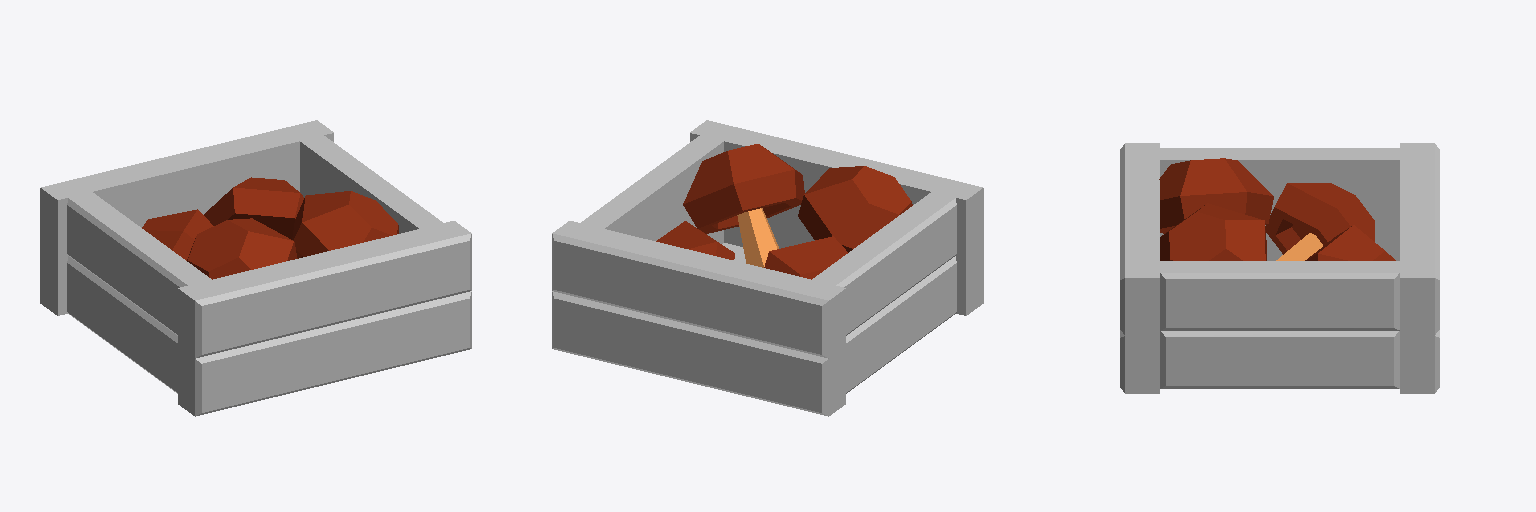
The model's file is crate_mushroom.obj.
3 views of the same model, side by side, from view 1: azimuth 30°, elevation 25°; view 2: azimuth 150°, elevation 25°; view 3: azimuth 270°, elevation 25° (orthographic).
Visible parts, largest first — view 1: crate, mushroom.001, mushroom, mushroom.003, mushroom.002; view 2: crate, mushroom.001, mushroom, mushroom.002, mushroom.003; view 3: crate, mushroom.002, mushroom, mushroom.001, mushroom.003.
Boxes of the visible parts, x1=… form: crate: x1=40, y1=120, x2=471, y2=416; mushroom.001: x1=292, y1=191, x2=398, y2=256; mushroom: x1=187, y1=218, x2=297, y2=279; mushroom.003: x1=204, y1=177, x2=303, y2=258; mushroom.002: x1=142, y1=209, x2=213, y2=260; crate: x1=552, y1=120, x2=983, y2=416; mushroom.001: x1=683, y1=144, x2=804, y2=267; mushroom: x1=798, y1=166, x2=912, y2=252; mushroom.002: x1=764, y1=236, x2=847, y2=279; mushroom.003: x1=656, y1=221, x2=734, y2=259; crate: x1=1120, y1=143, x2=1439, y2=393; mushroom.002: x1=1265, y1=183, x2=1374, y2=260; mushroom: x1=1159, y1=158, x2=1273, y2=233; mushroom.001: x1=1160, y1=203, x2=1266, y2=260; mushroom.003: x1=1305, y1=225, x2=1395, y2=260.
Size of the model in its own units: 2 by 0.9704 by 2.